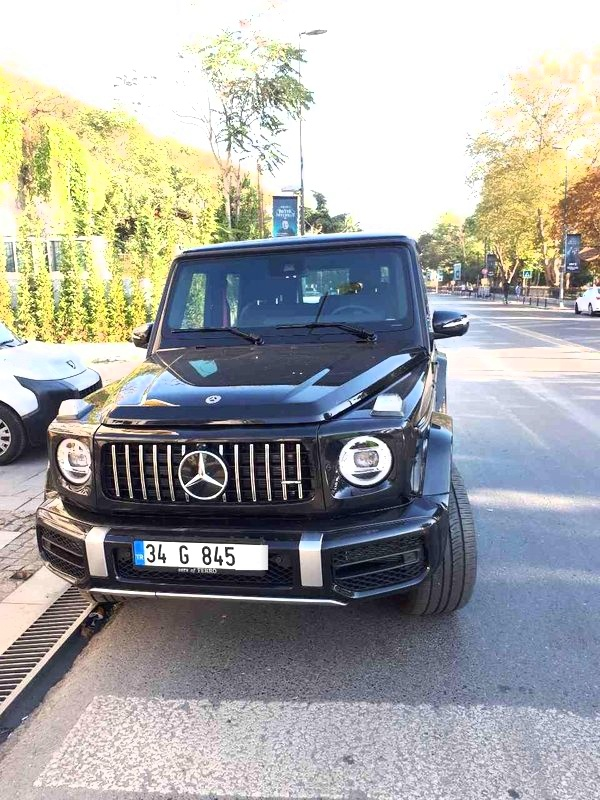plaka: (138, 536, 247, 568)
